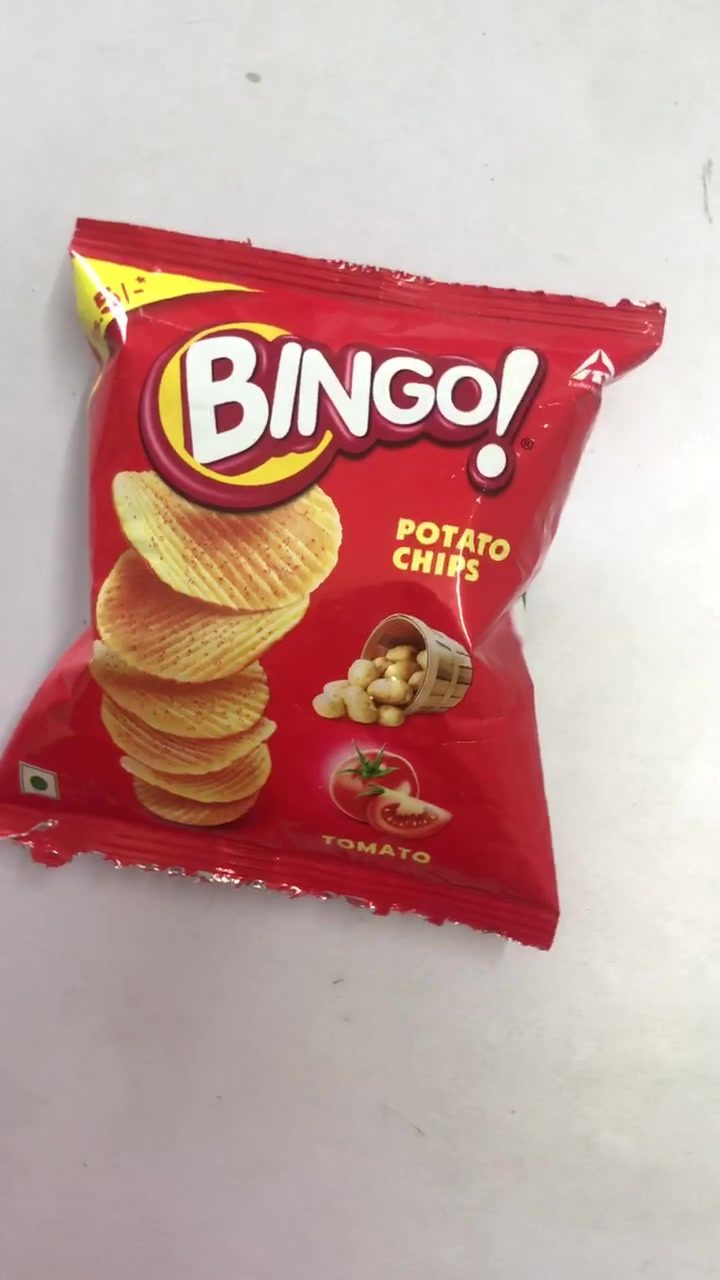Bingo: (5, 224, 667, 950)
